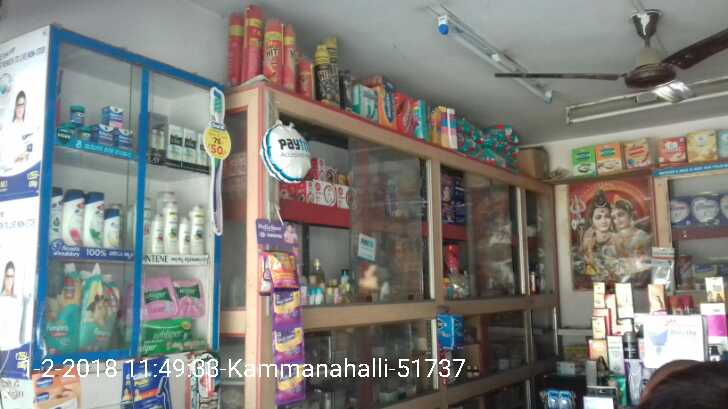beauty: (81, 190, 104, 248), (63, 187, 85, 246), (189, 203, 207, 255), (165, 201, 181, 255), (101, 207, 122, 247), (50, 188, 63, 240), (151, 113, 167, 155), (165, 123, 181, 160), (180, 128, 198, 160), (178, 216, 190, 255), (154, 211, 164, 256), (146, 198, 153, 256)
pharmacy: (84, 265, 122, 351), (49, 263, 83, 354), (143, 321, 201, 349), (169, 281, 208, 319), (144, 277, 174, 320), (92, 123, 116, 146), (101, 104, 122, 125), (117, 128, 138, 148), (70, 104, 87, 125)
